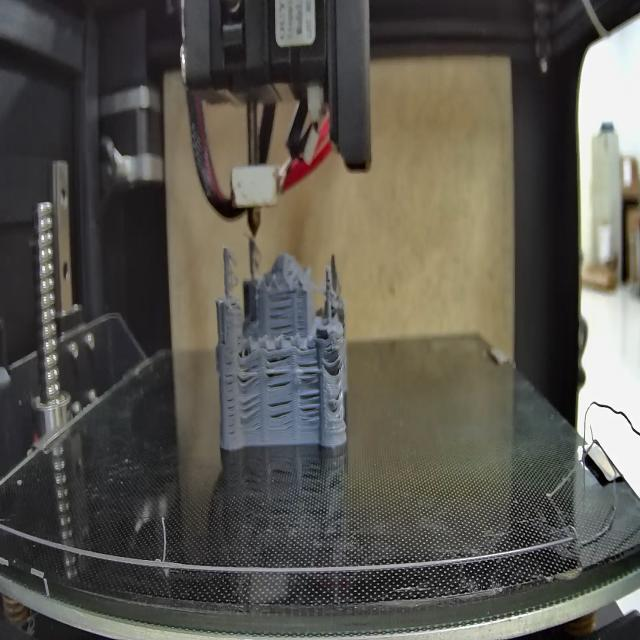cracks: (299, 355, 321, 426), (265, 350, 294, 390), (267, 291, 293, 332), (224, 355, 236, 439), (238, 356, 260, 390), (239, 395, 262, 427), (268, 395, 292, 425), (324, 344, 342, 380), (326, 388, 344, 417)
